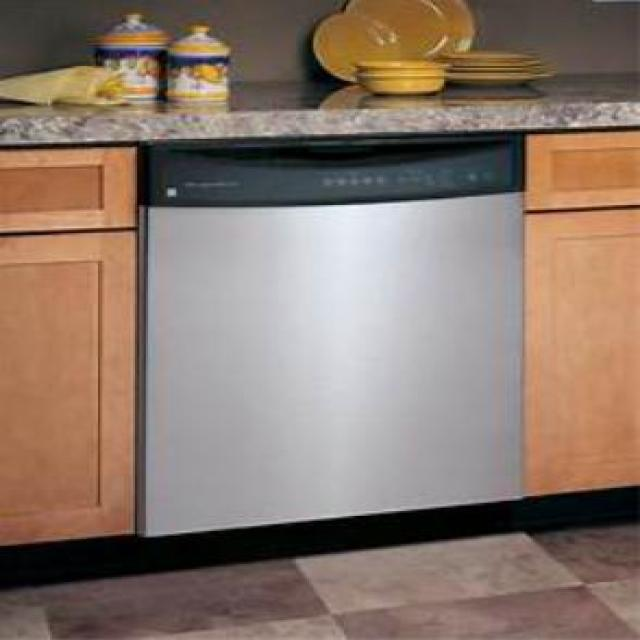dishwasher: (142, 132, 524, 541)
